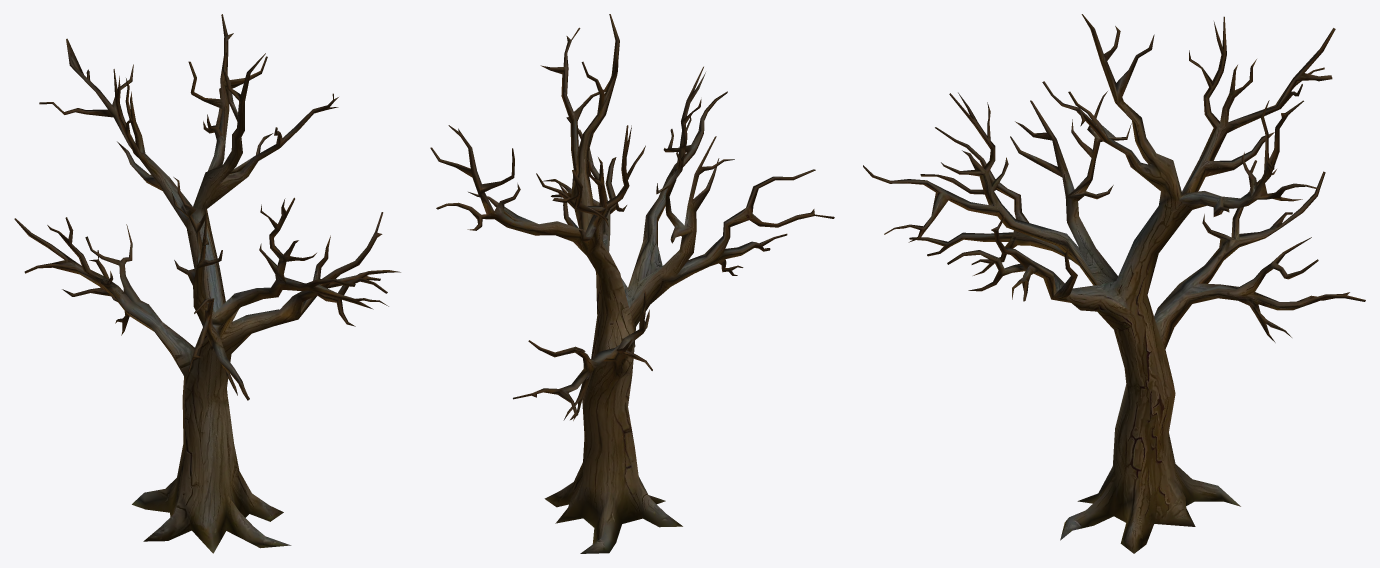
Rendered from tree-tronk-transformed.glb.
3 views of the same model, side by side, from view 1: azimuth 30°, elevation 25°; view 2: azimuth 150°, elevation 25°; view 3: azimuth 270°, elevation 25° (orthographic). The views are drawn at different scales.
Parts seen in each view (by area): view 1: geometry_0; view 2: geometry_0; view 3: geometry_0.
Boxes of the visible parts, <box> form: geometry_0: <box>14,14,400,553</box>; geometry_0: <box>430,14,834,553</box>; geometry_0: <box>863,14,1365,553</box>.
Size of the model in its own units: 0.5488 by 0.998 by 0.8769.
1 material, 1 textured.
